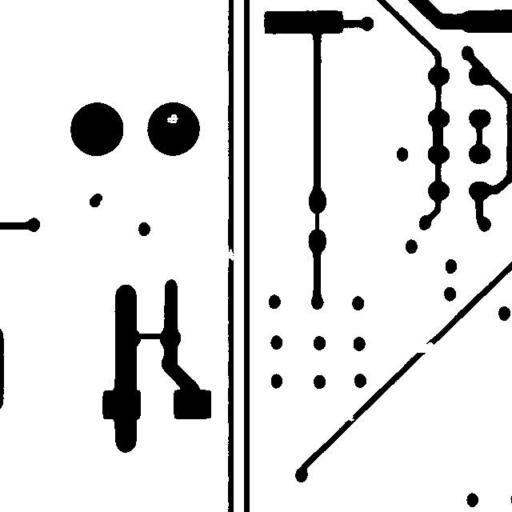copper: (82, 186, 110, 214)
mousebite: (340, 407, 362, 429)
open: (402, 334, 443, 360), (218, 241, 241, 268)
pin-hole: (159, 106, 186, 130)
short: (129, 326, 173, 346), (307, 202, 326, 239)
spur: (424, 114, 450, 164)
